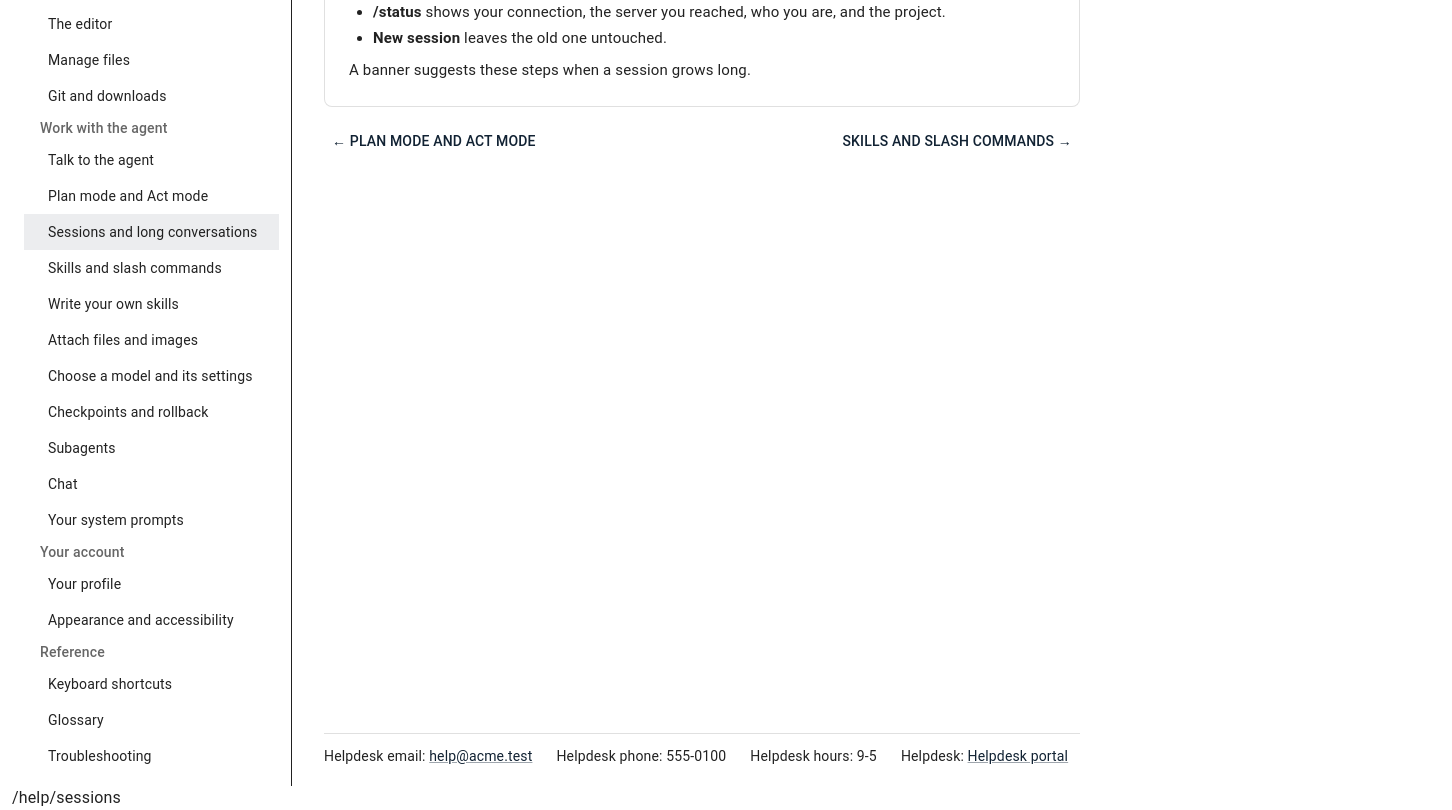
Help page › opens a topic from its address, and navigates when you click
(page scrolled)
Click the link "Checkpoints and rollback". click: click(128, 412)
box: [48,404,209,420]
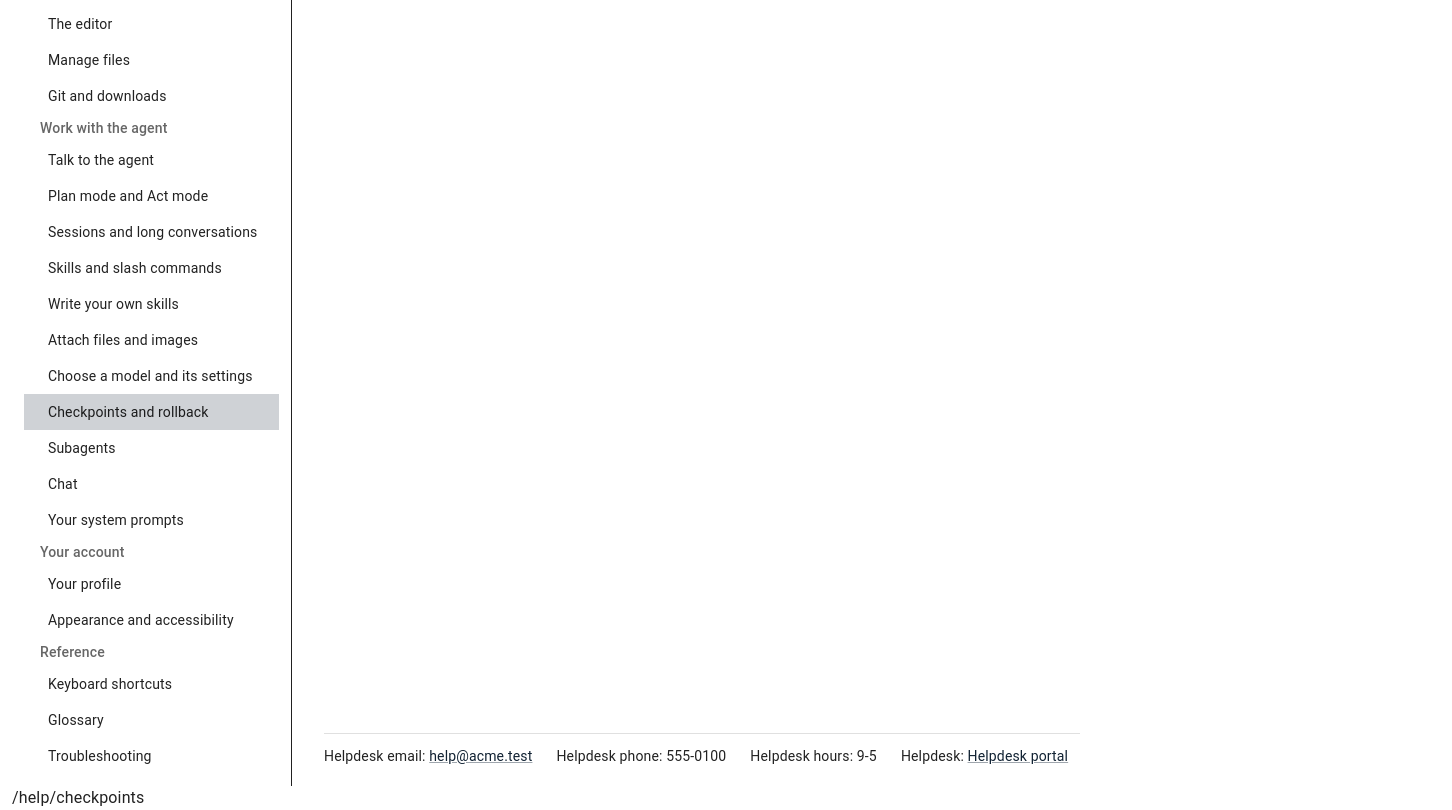
Expected: the text with test id "where" reads "/help/checkpoints", [12,788,144,807]
